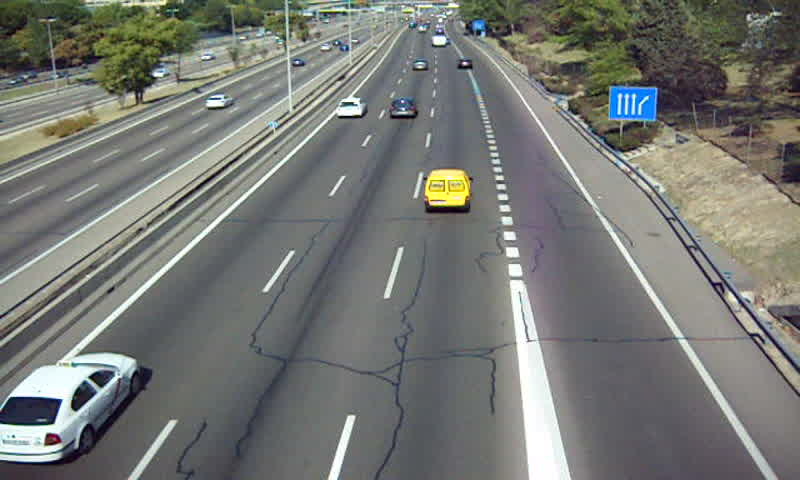car: (1, 352, 141, 466), (388, 98, 418, 120), (335, 97, 366, 118), (457, 57, 474, 71), (411, 59, 428, 73)
van: (423, 170, 472, 211)
